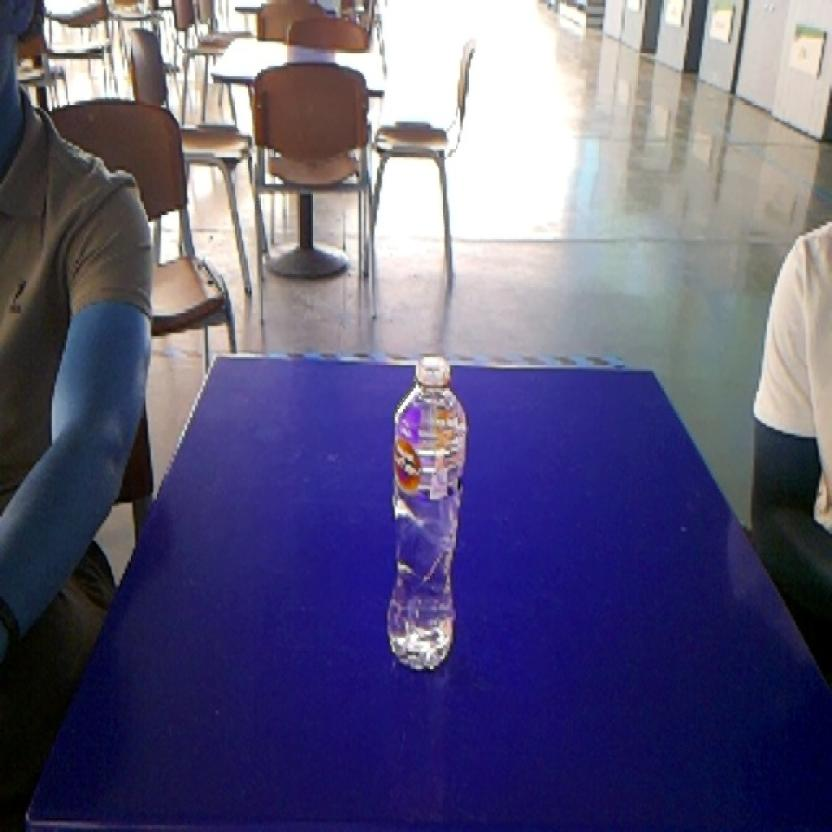no_cap: (375, 344, 476, 675)
